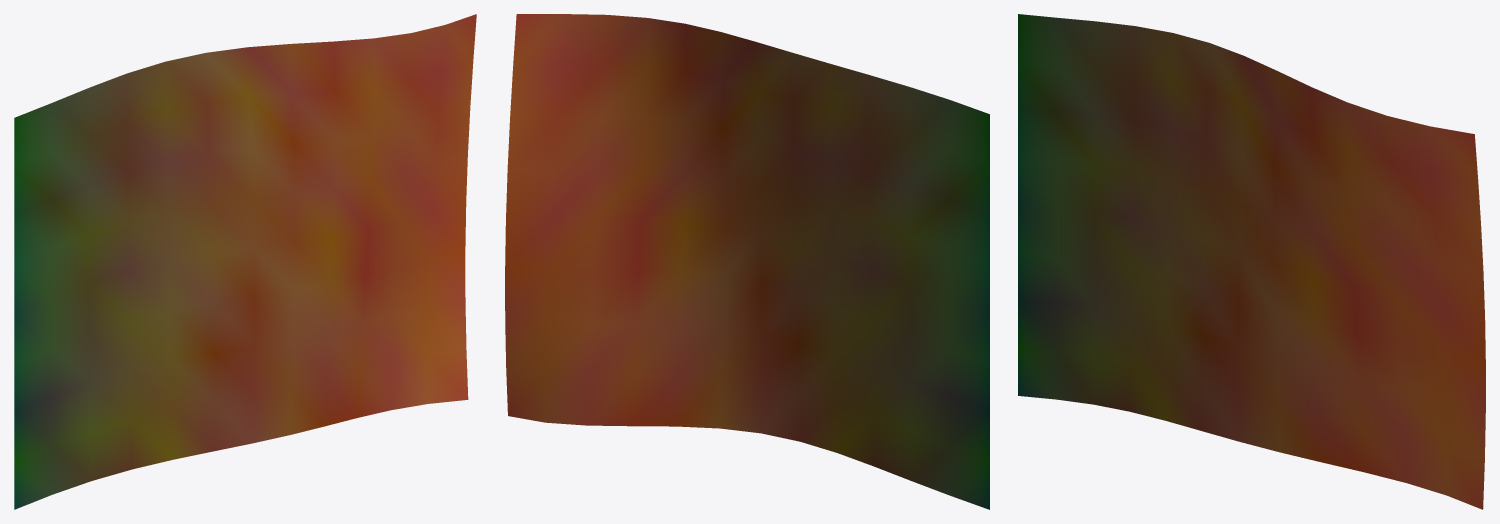
Rendered from Flag_A.fbx.
The picture shows the model from 3 angles, left to right: view 1: azimuth 30°, elevation 25°; view 2: azimuth 150°, elevation 25°; view 3: azimuth 330°, elevation 25°; orthographic projection. The views are drawn at different scales.
Visible parts, largest first — view 1: Flag_A; view 2: Flag_A; view 3: Flag_A.
Part boxes in pixels (x1=…): Flag_A: x1=14, y1=14, x2=476, y2=509; Flag_A: x1=505, y1=14, x2=989, y2=509; Flag_A: x1=1018, y1=14, x2=1485, y2=509.
Bounding box in the file's own units: 0.46 × 0.3963 × 0.0434.
